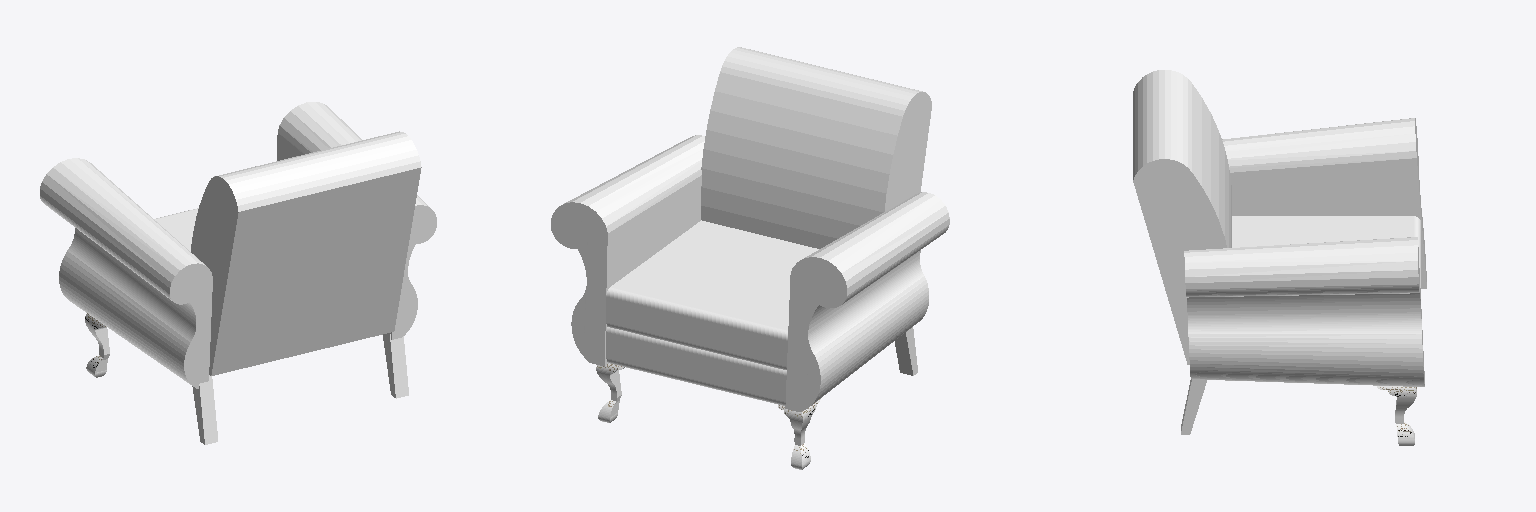
3 views of the same model, side by side, from view 1: azimuth 30°, elevation 25°; view 2: azimuth 150°, elevation 25°; view 3: azimuth 270°, elevation 25° (orthographic).
Parts seen in each view (by area): view 1: mesh15_mesh15-geometry, mesh13_mesh13-geometry, mesh1_mesh1-geometry, mesh3_mesh3-geometry, mesh4_mesh4-geometry, mesh5_mesh5-geometry, mesh17_mesh17-geometry; view 2: mesh15_mesh15-geometry, mesh5_mesh5-geometry, mesh13_mesh13-geometry, mesh1_mesh1-geometry, mesh17_mesh17-geometry, mesh16_mesh16-geometry, mesh3_mesh3-geometry; view 3: mesh1_mesh1-geometry, mesh13_mesh13-geometry, mesh15_mesh15-geometry, mesh5_mesh5-geometry, mesh16_mesh16-geometry, mesh4_mesh4-geometry.
Part boxes in pixels (x1,y1,x2,y2): mesh15_mesh15-geometry: (191, 131, 421, 375); mesh13_mesh13-geometry: (40, 158, 212, 388); mesh1_mesh1-geometry: (277, 102, 436, 339); mesh3_mesh3-geometry: (192, 375, 217, 444); mesh4_mesh4-geometry: (383, 333, 408, 398); mesh5_mesh5-geometry: (154, 208, 198, 251); mesh17_mesh17-geometry: (85, 313, 109, 377); mesh15_mesh15-geometry: (701, 47, 931, 248); mesh5_mesh5-geometry: (606, 220, 818, 405); mesh13_mesh13-geometry: (785, 192, 949, 411); mesh1_mesh1-geometry: (551, 135, 704, 366); mesh17_mesh17-geometry: (778, 399, 820, 469); mesh16_mesh16-geometry: (596, 363, 624, 422); mesh3_mesh3-geometry: (895, 327, 917, 375); mesh1_mesh1-geometry: (1184, 237, 1424, 386); mesh13_mesh13-geometry: (1222, 118, 1426, 288); mesh15_mesh15-geometry: (1133, 70, 1231, 364); mesh5_mesh5-geometry: (1232, 216, 1420, 287); mesh16_mesh16-geometry: (1377, 386, 1416, 445); mesh4_mesh4-geometry: (1181, 379, 1206, 434).
Bounding box in the file's own units: 0.6218 × 0.5712 × 0.5358.
Materials: 5 (1 with a texture image).